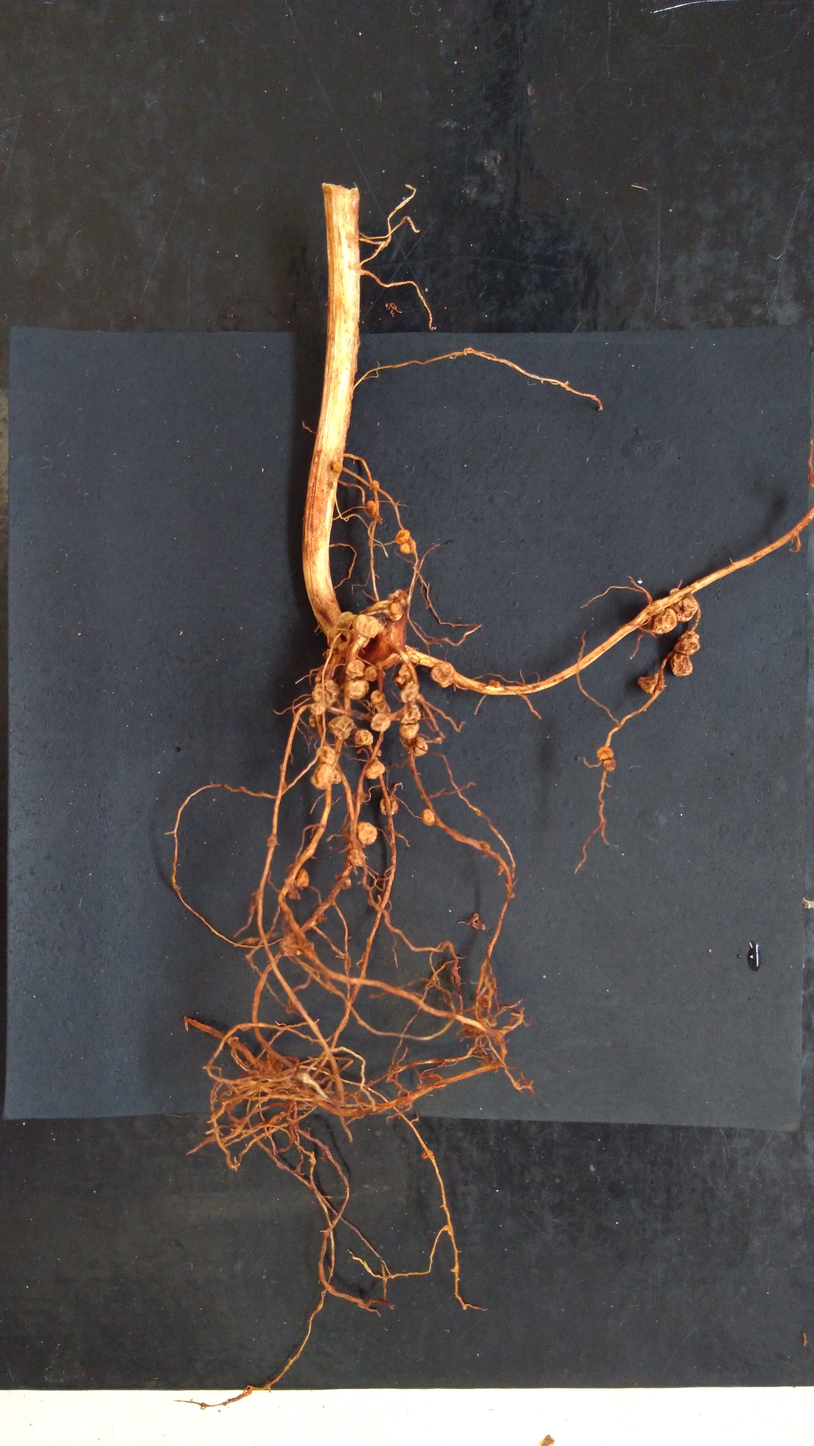nodule: (334, 610, 370, 649), (308, 678, 341, 717), (646, 606, 679, 636), (309, 763, 343, 792), (667, 596, 699, 625), (430, 660, 457, 691), (326, 715, 357, 741), (352, 613, 381, 640), (672, 629, 701, 656), (342, 677, 371, 702), (668, 652, 695, 678), (356, 821, 379, 848), (636, 672, 660, 695), (313, 744, 338, 766), (364, 759, 387, 781), (399, 681, 420, 705), (393, 662, 412, 688), (346, 848, 368, 870), (379, 796, 400, 819), (370, 690, 393, 711), (362, 664, 388, 682), (412, 734, 430, 760), (343, 657, 365, 678), (369, 712, 391, 733), (397, 722, 423, 739), (400, 704, 421, 725), (385, 601, 405, 623), (386, 588, 409, 607), (293, 867, 311, 891), (353, 727, 373, 747), (391, 527, 412, 545), (398, 539, 418, 557), (420, 808, 436, 829), (595, 743, 614, 760), (365, 499, 380, 518), (601, 757, 618, 773), (286, 885, 301, 901), (339, 874, 353, 890), (331, 460, 344, 475), (419, 1148, 434, 1160), (371, 480, 381, 489)
